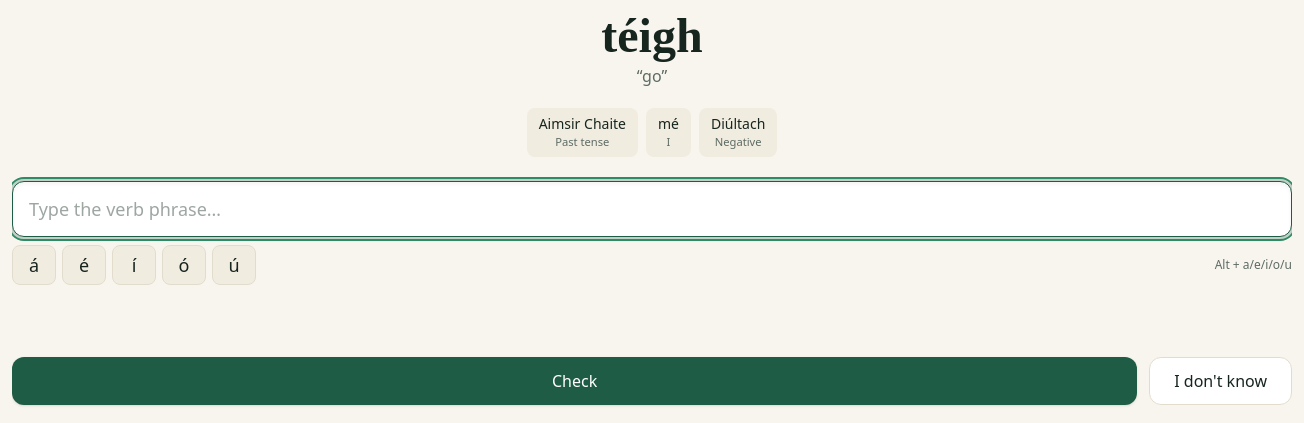
it: SingleQuestion › advances after a correct answer
Type "ní dheachaigh mé" into the field at (652, 209), box left=12, top=181, right=1292, bottom=237
Then press Enter
Wait 1000 ms
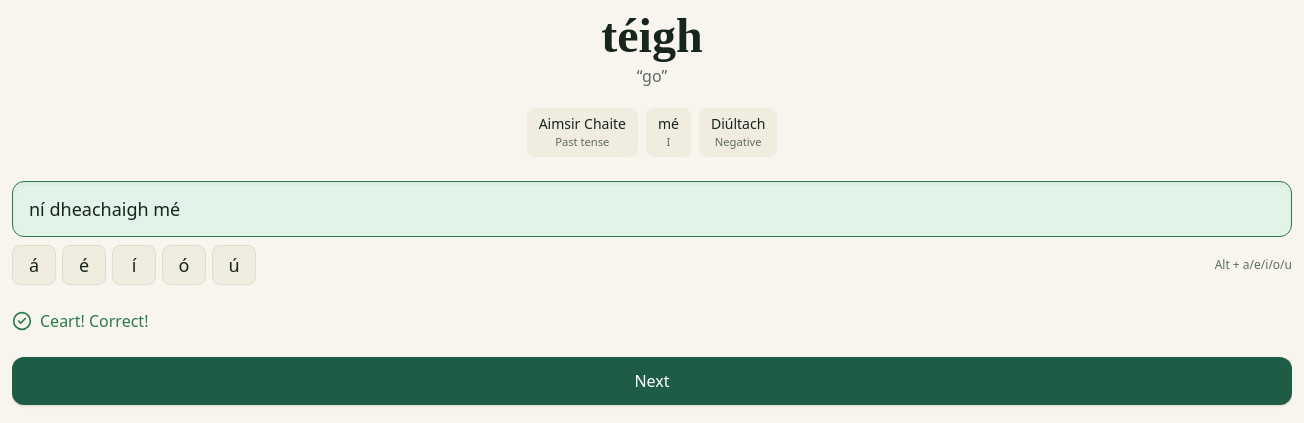
Expected: the text "Ceart! Correct!" is shown, left=12, top=310, right=148, bottom=332
